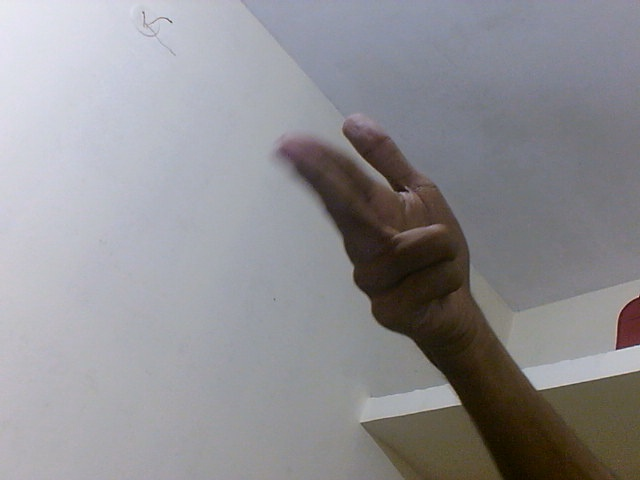hand: (271, 107, 482, 356)
